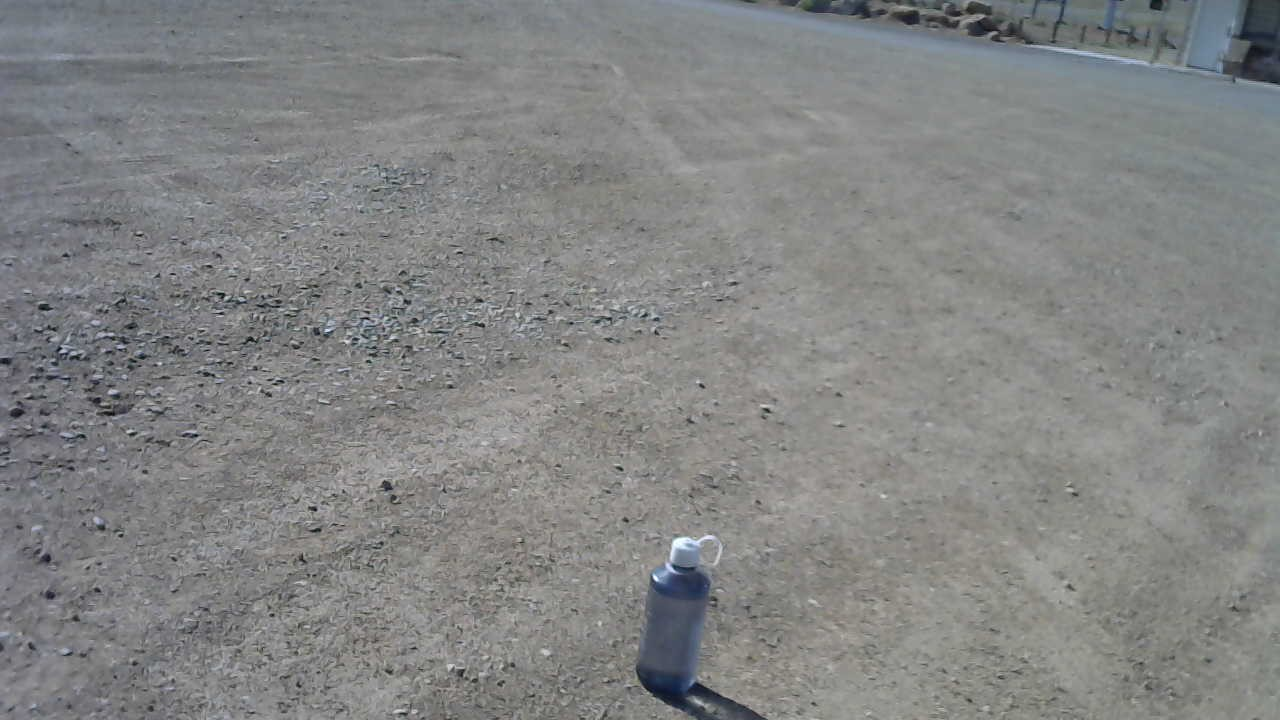bottle: (632, 531, 728, 703)
